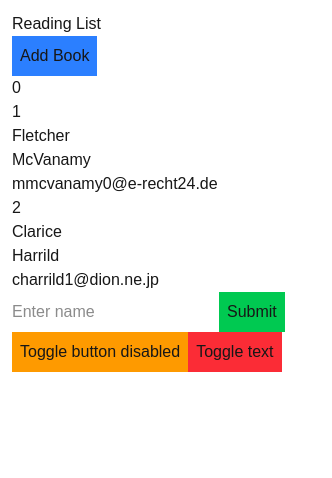
App Component › should click button submit display text
This screenshot has width=332, height=478.
Step 1. Type "Hello" into the field with placeholder "Enter name" → (116, 312), box [12,300,219,324]
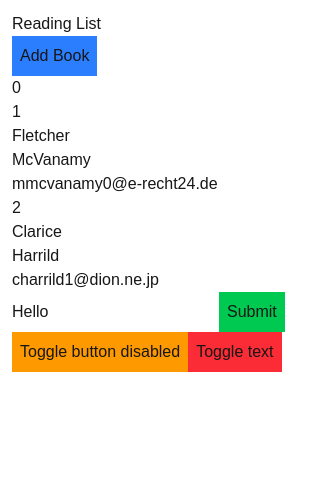
Step 2. Click the button with test id "btn-submit" → (252, 312), box [219,292,285,332]
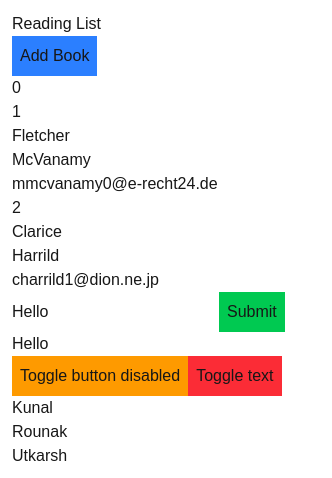
Expected: the text with test id "display" reads "Hello", [12,335,48,352]
